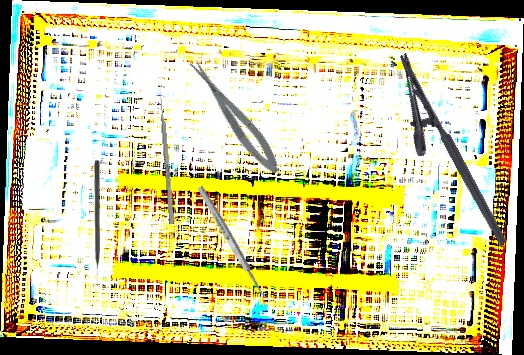Micro Scissor: (184, 52, 287, 180)
Needle Holder: (372, 52, 508, 260)
Pusher: (157, 86, 175, 225), (93, 160, 100, 285)
Surgical Spoon: (195, 184, 272, 307)
